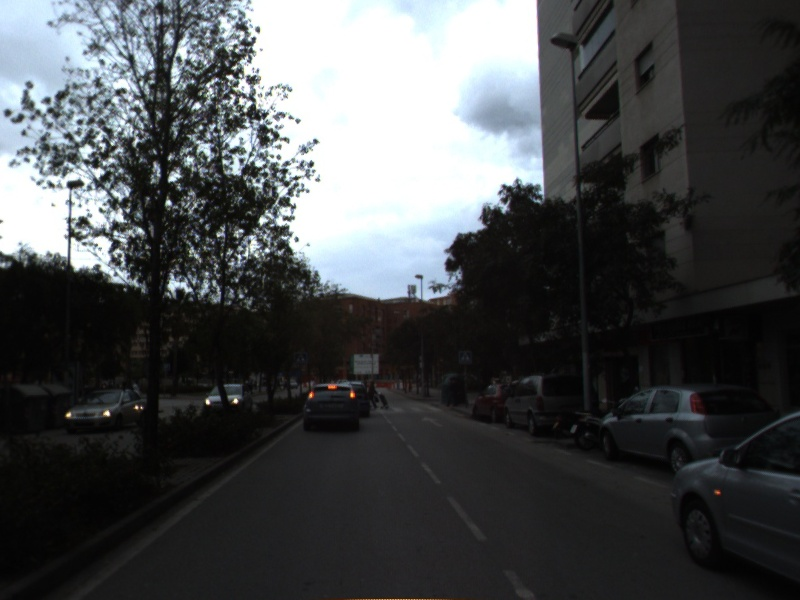STRAIGHT: (419, 414, 446, 429)
